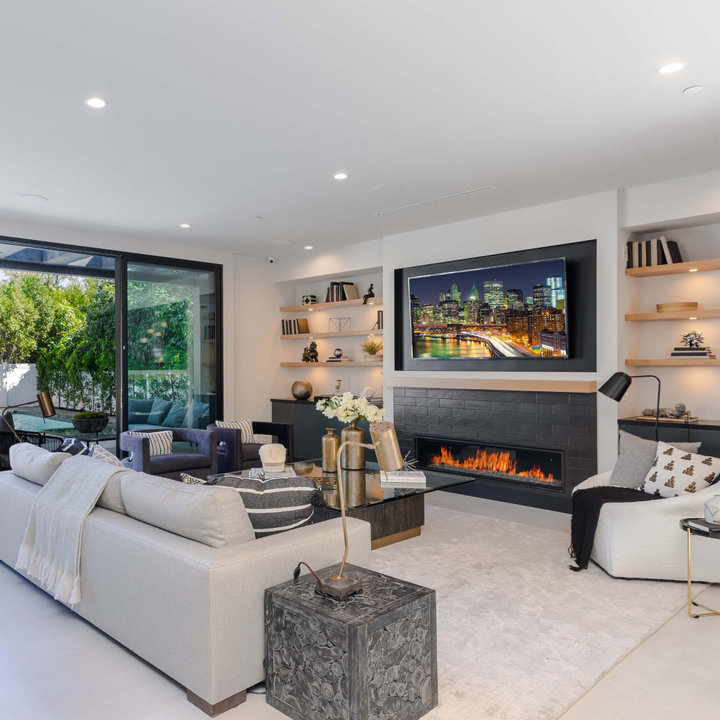chair: (575, 431, 719, 583)
floor lamp: (597, 361, 674, 436)
flower vase: (313, 381, 387, 510)
sofa: (2, 437, 374, 714)
table: (224, 456, 476, 546)
